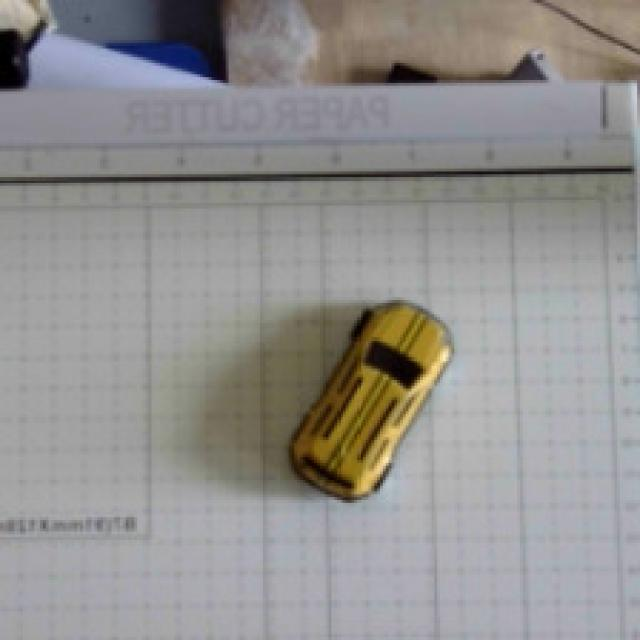Yellow Car: (219, 254, 514, 565)
